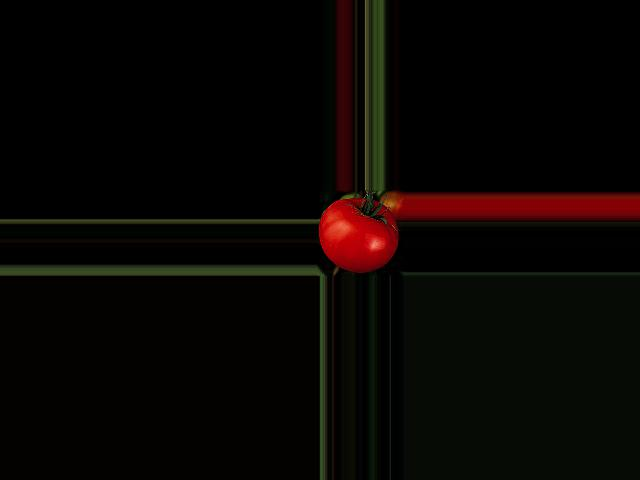tomato: (318, 198, 397, 273)
